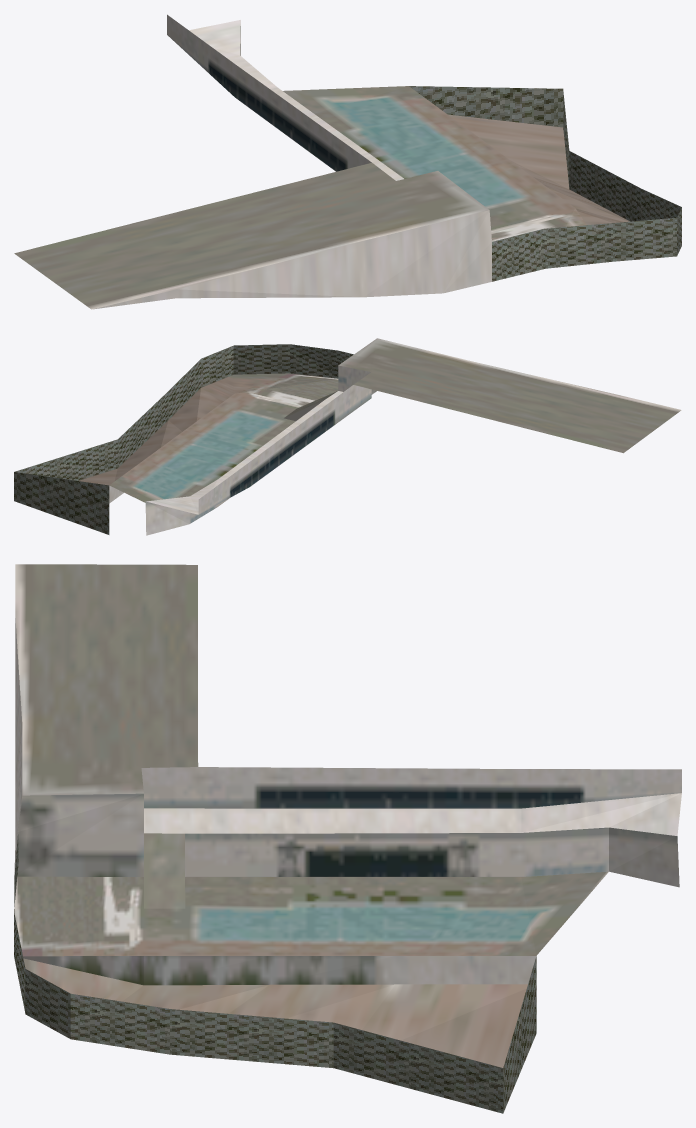
Rendered from lodhotelback03_sfs.obj.
The picture shows the model from 3 angles, top to bottom: view 1: azimuth 30°, elevation 25°; view 2: azimuth 150°, elevation 25°; view 3: azimuth 270°, elevation 25°; orthographic projection. The views are drawn at different scales.
Parts seen in each view (by area): view 1: LODhotelback03_SFS; view 2: LODhotelback03_SFS; view 3: LODhotelback03_SFS.
Boxes of the visible parts, x1,y1,x2,y2 form: LODhotelback03_SFS: [14, 14, 681, 309]; LODhotelback03_SFS: [14, 338, 681, 535]; LODhotelback03_SFS: [14, 564, 681, 1113].
Size of the model in its own units: 97.38 by 18.96 by 70.4.
Materials: 3 (3 with a texture image).
